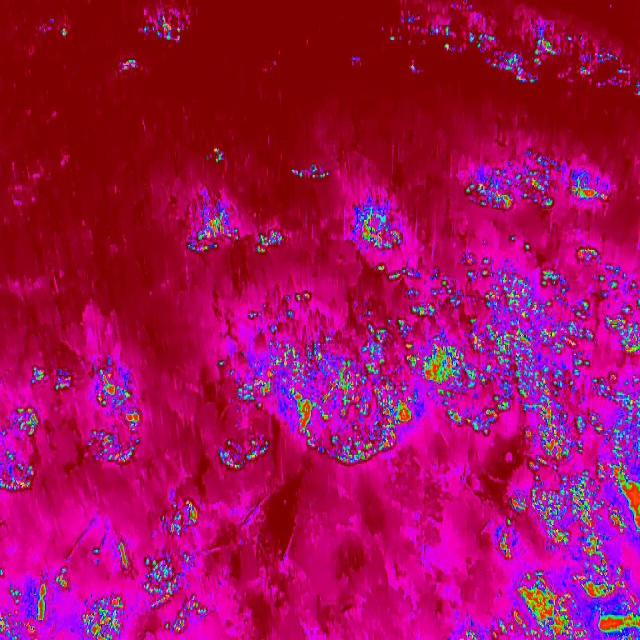fire: (215, 236, 640, 476), (451, 465, 640, 640), (383, 2, 640, 98), (0, 360, 147, 500), (0, 537, 139, 640), (136, 488, 217, 636), (456, 160, 631, 225), (170, 193, 312, 272), (344, 198, 416, 264), (130, 10, 192, 48), (282, 160, 337, 188), (117, 57, 142, 77), (204, 146, 224, 169), (57, 27, 77, 42)
